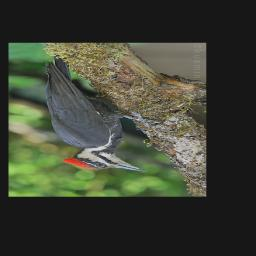Woodpecker: (34, 54, 161, 173)
